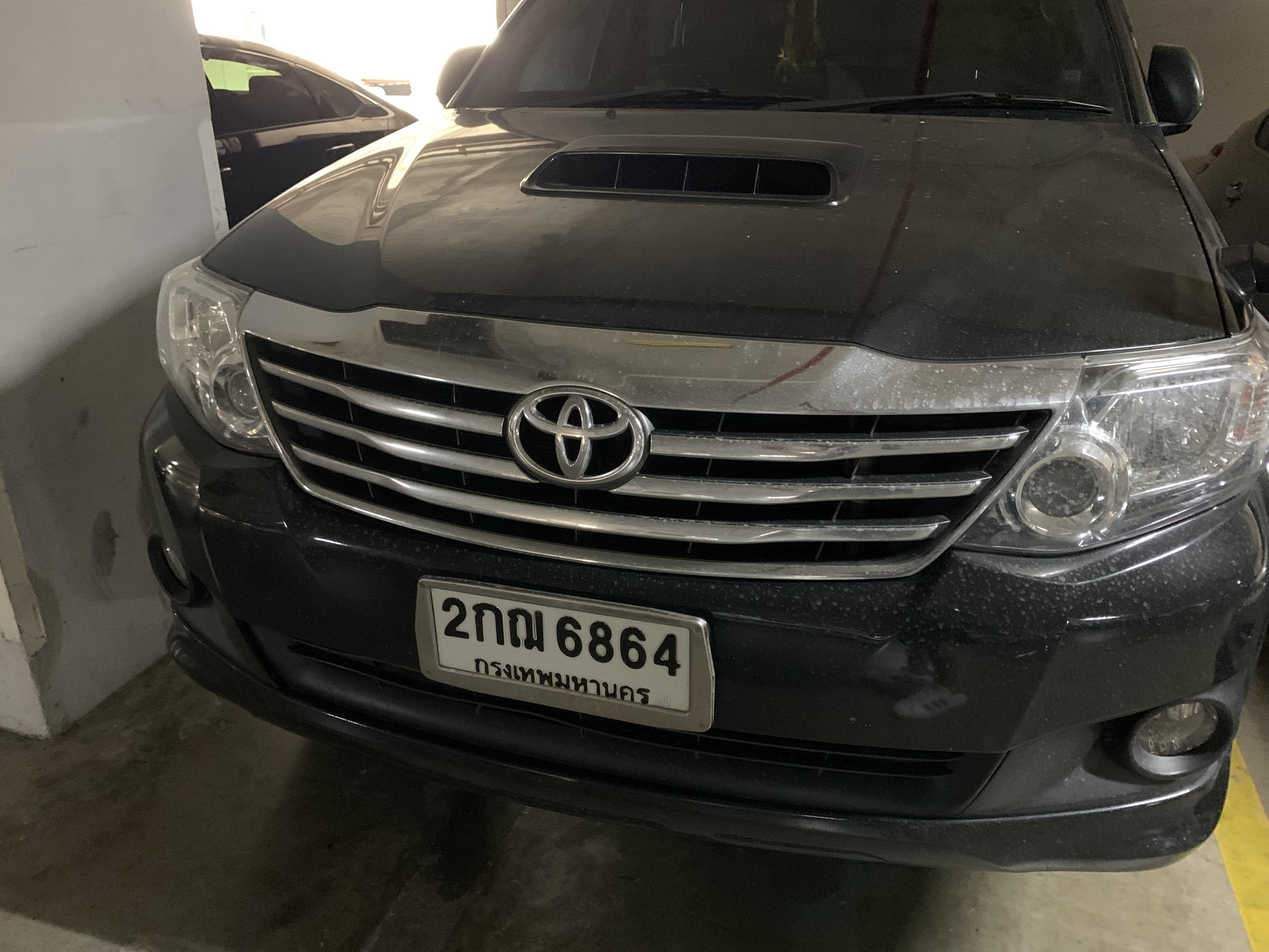license-plate: (411, 571, 718, 735)
